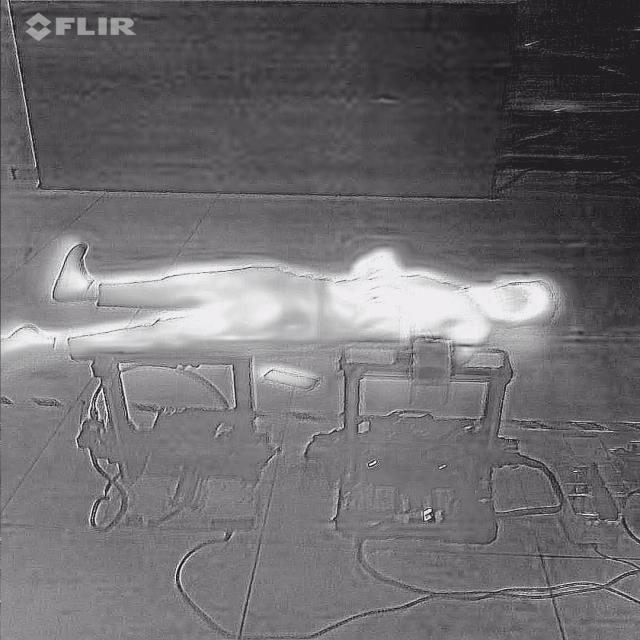Victim: (0, 234, 565, 374)
